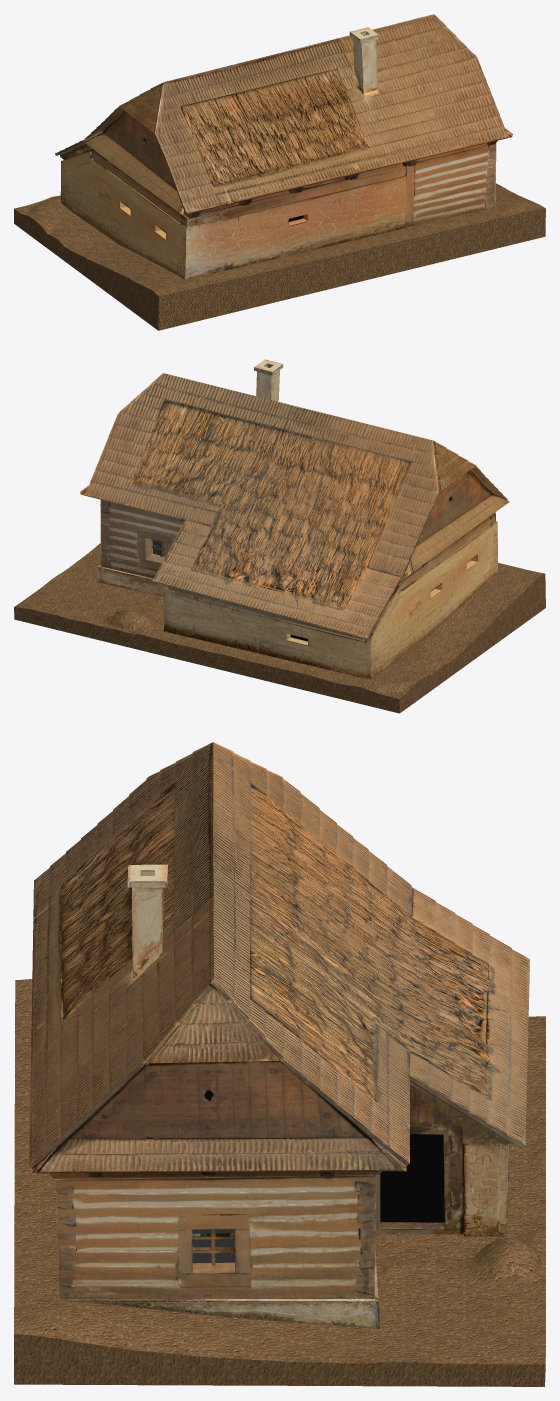
File: hlinsko.dae
3 renders of one model, top to bottom at view 1: azimuth 30°, elevation 25°; view 2: azimuth 150°, elevation 25°; view 3: azimuth 270°, elevation 25°, orthographic. The views are drawn at different scales.
Parts seen in each view (by area): view 1: SketchUp (×6), group_0, group_3; view 2: SketchUp (×6), group_4, group_0; view 3: SketchUp (×9), group_0, group_4, group_3.
Part boxes in pixels (x1,y1,x2,y2): SketchUp (×6): (60,14,508,279); group_0: (14,183,545,330); group_3: (181,69,368,185); SketchUp (×6): (85,373,509,679); group_4: (132,399,410,607); group_0: (14,543,545,713); SketchUp (×9): (29,742,529,1328); group_0: (14,979,545,1386); group_4: (250,784,490,1100); group_3: (59,783,175,1021).
Bounding box in the file's own units: 15.89 × 10.35 × 8.24.
Materials: 11 (9 with a texture image).
